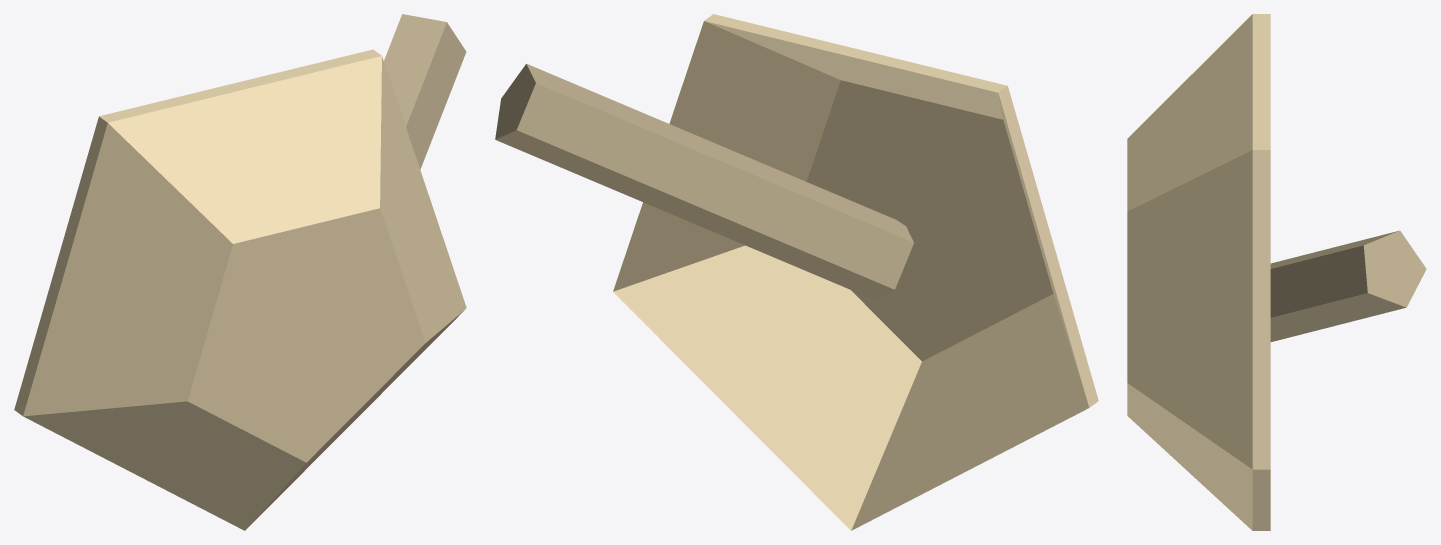
File: Mortar.fbx
3 views of the same model, side by side, from view 1: azimuth 30°, elevation 25°; view 2: azimuth 150°, elevation 25°; view 3: azimuth 270°, elevation 25° (orthographic). The views are drawn at different scales.
Parts seen in each view (by area): view 1: 円柱.001; view 2: 円柱.001; view 3: 円柱.001.
Boxes of the visible parts, bbox=[...] form: 円柱.001: bbox=[14, 14, 466, 530]; 円柱.001: bbox=[495, 14, 1098, 530]; 円柱.001: bbox=[1127, 14, 1426, 530].
Bounding box in the file's own units: 2.14 × 1.81 × 1.09.
